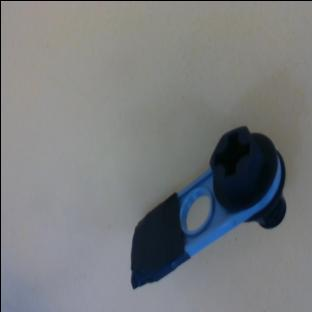part_1_bad: (90, 115, 306, 289)
